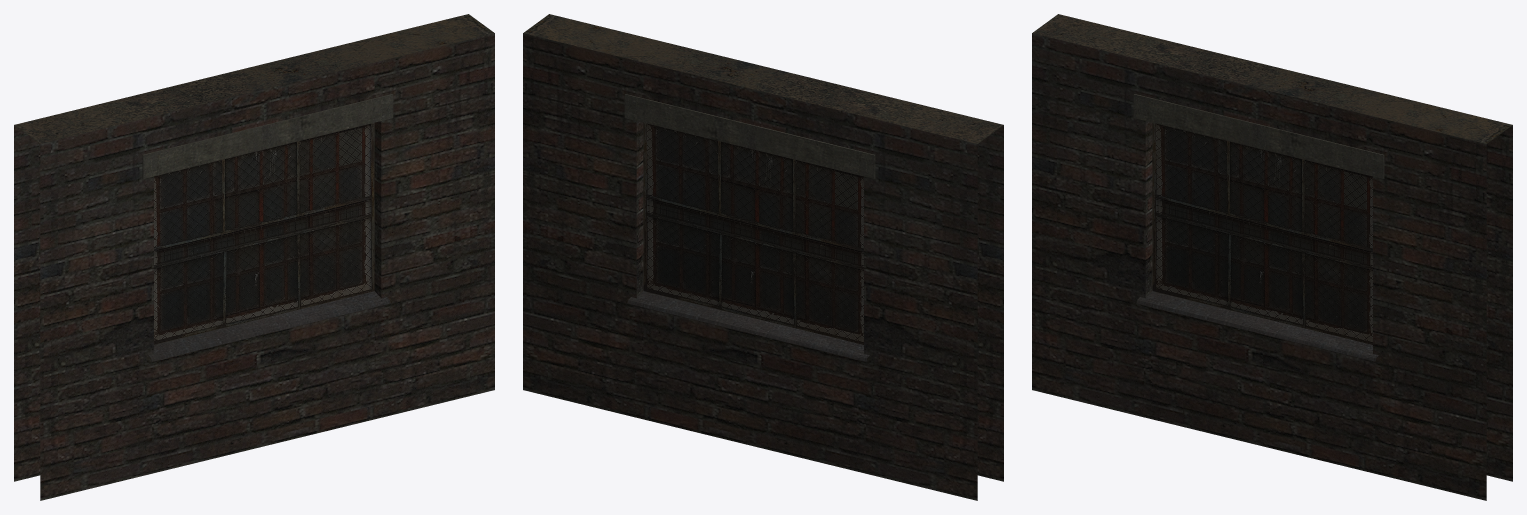
The model's file is window_hs_1.obj.
3 views of the same model, side by side, from view 1: azimuth 30°, elevation 25°; view 2: azimuth 150°, elevation 25°; view 3: azimuth 330°, elevation 25° (orthographic).
Parts seen in each view (by area): view 1: window_hs_1; view 2: window_hs_1; view 3: window_hs_1.
Part boxes in pixels (x1,y1,x2,y2): window_hs_1: (14,14,494,500); window_hs_1: (523,14,1003,500); window_hs_1: (1032,14,1512,500).
Size of the model in its own units: 4 by 3 by 0.51.
